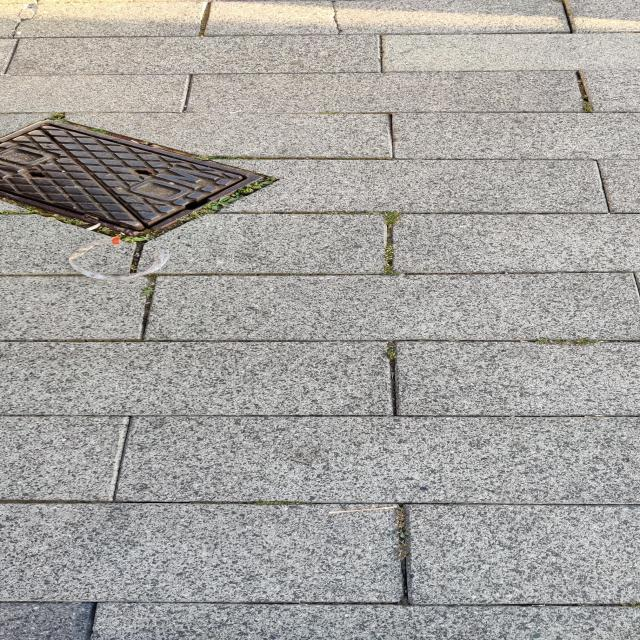litter: (68, 236, 172, 281)
